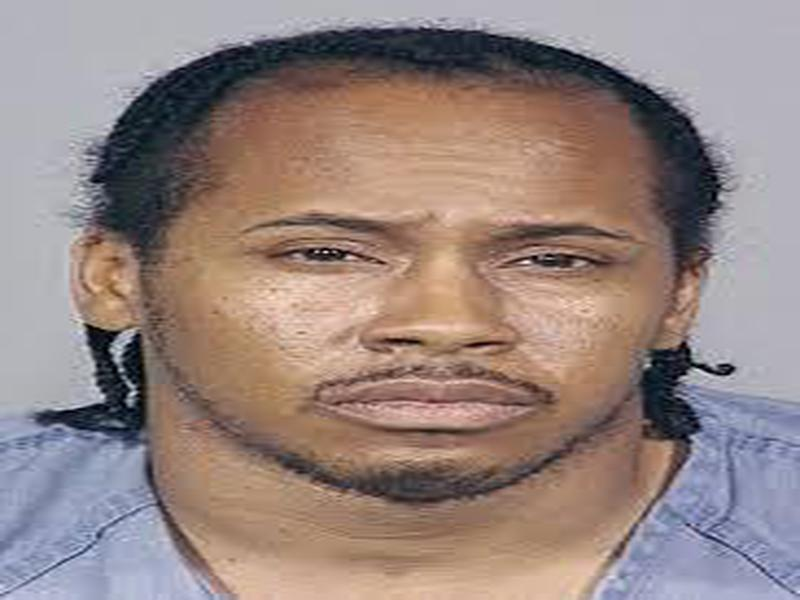without_mask: (189, 112, 655, 506)
